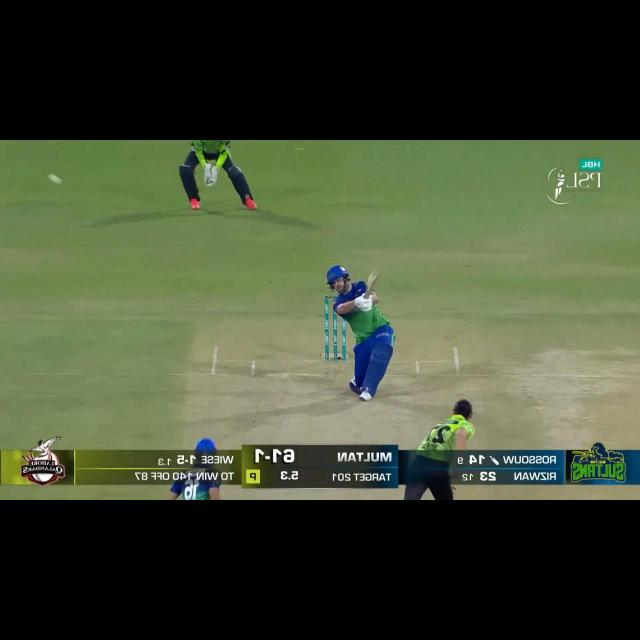bat: (366, 268, 380, 297)
toe: (366, 267, 380, 281)
